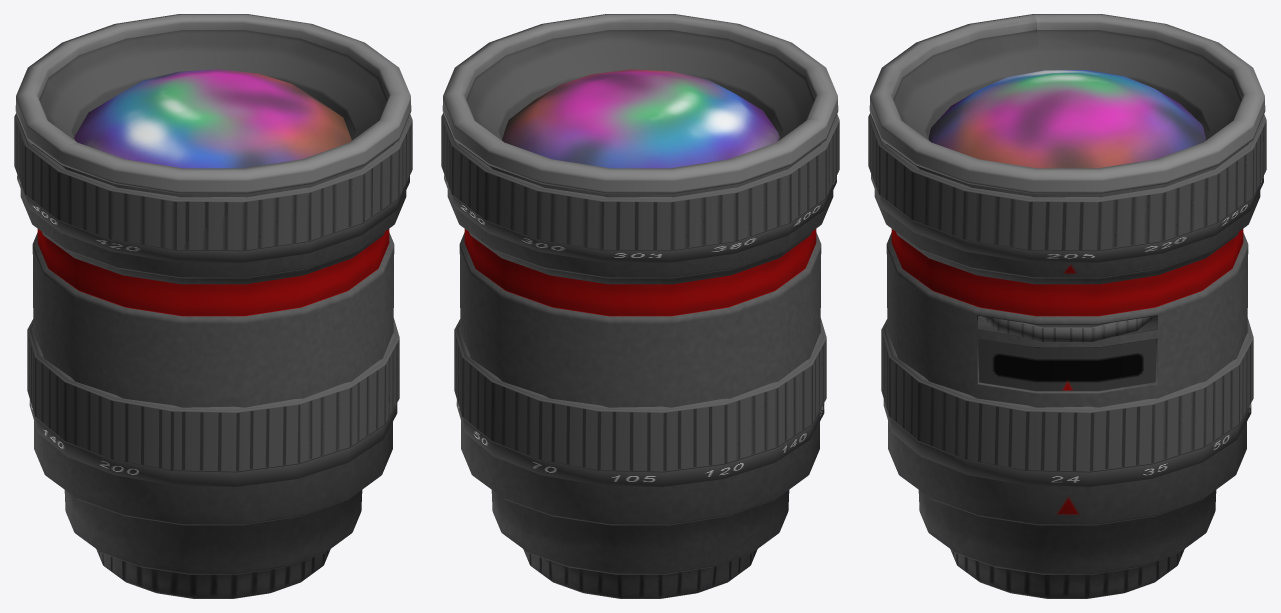
Rendered from Lente_De_Camera.fbx.
The picture shows the model from 3 angles, left to right: view 1: azimuth 30°, elevation 25°; view 2: azimuth 150°, elevation 25°; view 3: azimuth 270°, elevation 25°; orthographic projection.
Visible parts, largest first — view 1: lente de camera, cilindro, cilindro 2; view 2: lente de camera, cilindro, cilindro 2; view 3: lente de camera, cilindro, cilindro 2, cilindro 3.
Boxes of the visible parts, x1,y1,x2,y2 form: lente de camera: (15,14,411,598); cilindro: (27,318,399,486); cilindro 2: (14,113,412,262); lente de camera: (442,14,838,598); cilindro: (454,318,826,486); cilindro 2: (441,113,839,262); lente de camera: (869,14,1265,598); cilindro: (881,318,1253,486); cilindro 2: (868,113,1266,262); cilindro 3: (978,315,1156,341).
Size of the model in its own units: 205 by 263 by 207.
